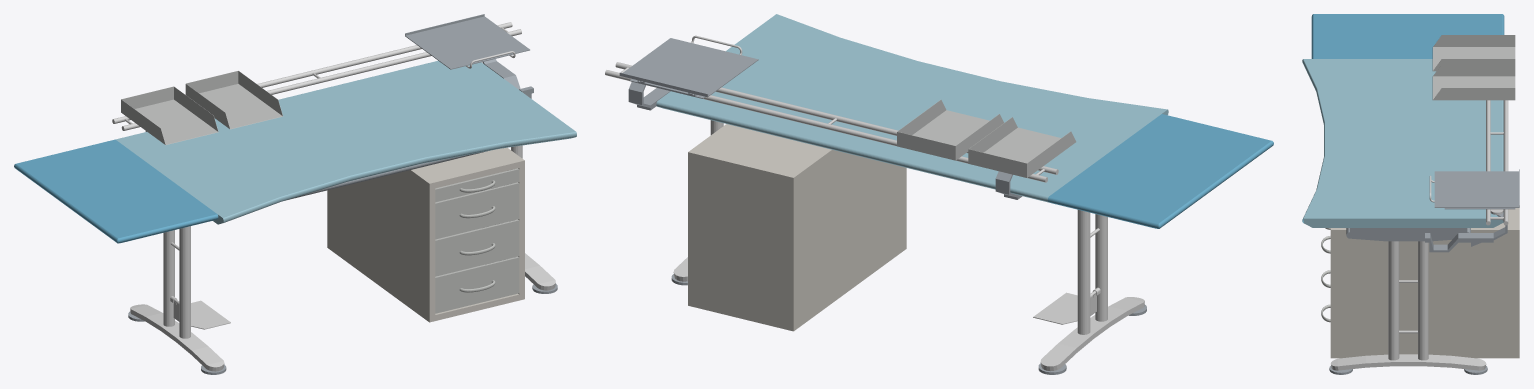
The model's file is desk.glb.
The picture shows the model from 3 angles, left to right: view 1: azimuth 30°, elevation 25°; view 2: azimuth 150°, elevation 25°; view 3: azimuth 270°, elevation 25°; orthographic projection. The views are drawn at different scales.
Parts seen in each view (by area): view 1: mesh_3_ROOT__Component_29_Layer0_142_108_78_ss, mesh_6_ROOT__Component_29_Layer0_232_223_206_ss, mesh_4_ROOT__Component_29_Layer0_9_73_119_ss, mesh_7_ROOT__Component_29_Layer0_200_204_198_ss, mesh_0_ROOT__Component_29_Layer0_244_244_244_ss, mesh_5_ROOT__Component_29_Layer0_200_204_201_ss, mesh_2_ROOT__Component_29_Layer0_91_91_91_ss; view 2: mesh_6_ROOT__Component_29_Layer0_232_223_206_ss, mesh_3_ROOT__Component_29_Layer0_142_108_78_ss, mesh_4_ROOT__Component_29_Layer0_9_73_119_ss, mesh_0_ROOT__Component_29_Layer0_244_244_244_ss, mesh_5_ROOT__Component_29_Layer0_200_204_201_ss, mesh_2_ROOT__Component_29_Layer0_91_91_91_ss; view 3: mesh_3_ROOT__Component_29_Layer0_142_108_78_ss, mesh_6_ROOT__Component_29_Layer0_232_223_206_ss, mesh_4_ROOT__Component_29_Layer0_9_73_119_ss, mesh_2_ROOT__Component_29_Layer0_91_91_91_ss, mesh_0_ROOT__Component_29_Layer0_244_244_244_ss, mesh_5_ROOT__Component_29_Layer0_200_204_201_ss, mesh_7_ROOT__Component_29_Layer0_200_204_198_ss.
Part boxes in pixels (<box>): mesh_3_ROOT__Component_29_Layer0_142_108_78_ss: <box>115,60,576,224</box>; mesh_6_ROOT__Component_29_Layer0_232_223_206_ss: <box>327,147,524,322</box>; mesh_4_ROOT__Component_29_Layer0_9_73_119_ss: <box>14,139,218,243</box>; mesh_7_ROOT__Component_29_Layer0_200_204_198_ss: <box>435,168,519,313</box>; mesh_0_ROOT__Component_29_Layer0_244_244_244_ss: <box>112,22,555,371</box>; mesh_5_ROOT__Component_29_Layer0_200_204_201_ss: <box>121,70,282,144</box>; mesh_2_ROOT__Component_29_Layer0_91_91_91_ss: <box>128,14,557,374</box>; mesh_6_ROOT__Component_29_Layer0_232_223_206_ss: <box>688,124,906,331</box>; mesh_3_ROOT__Component_29_Layer0_142_108_78_ss: <box>656,14,1168,203</box>; mesh_4_ROOT__Component_29_Layer0_9_73_119_ss: <box>1047,114,1273,228</box>; mesh_0_ROOT__Component_29_Layer0_244_244_244_ss: <box>605,35,1144,371</box>; mesh_5_ROOT__Component_29_Layer0_200_204_201_ss: <box>897,100,1076,177</box>; mesh_2_ROOT__Component_29_Layer0_91_91_91_ss: <box>619,38,1146,374</box>; mesh_3_ROOT__Component_29_Layer0_142_108_78_ss: <box>1302,59,1503,227</box>; mesh_6_ROOT__Component_29_Layer0_232_223_206_ss: <box>1330,208,1519,358</box>; mesh_4_ROOT__Component_29_Layer0_9_73_119_ss: <box>1311,14,1504,58</box>; mesh_2_ROOT__Component_29_Layer0_91_91_91_ss: <box>1329,169,1519,374</box>; mesh_0_ROOT__Component_29_Layer0_244_244_244_ss: <box>1330,100,1508,370</box>; mesh_5_ROOT__Component_29_Layer0_200_204_201_ss: <box>1432,35,1515,100</box>; mesh_7_ROOT__Component_29_Layer0_200_204_198_ss: <box>1321,228,1330,322</box>.
Bounding box in the file's own units: 2257 × 869 × 921.
